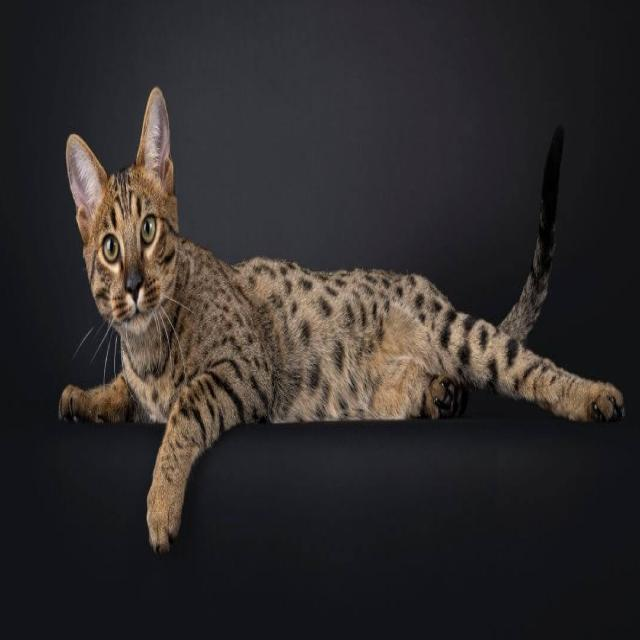Savannah: (53, 80, 628, 556)
